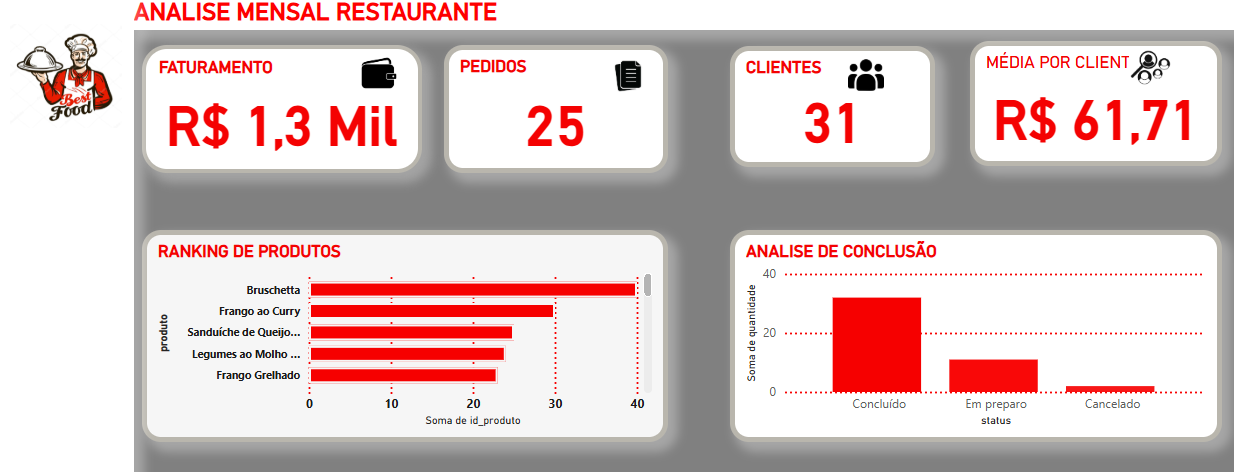

Layout of this report page (visuals, bound fields, positions):
{"tool":"powerbi","page":{"name":"Página 1","canvas":[9999,8003],"ordinal":0},"visuals":[{"type":"card","title":"FATURAMENTO","fields":{"Values":["Sum(relatorio_dashboard_restaurante - relatorio_dashboard_restaurante (2).FATURAMENTO TOTAL)"]},"box":[144,47,280,128],"z":0},{"type":"card","title":"MÉDIA POR CLIENTE","fields":{"Values":["Sum(relatorio_dashboard_restaurante - relatorio_dashboard_restaurante (2).TICKET MÉDIO)"]},"box":[972,43,252,125],"z":1000},{"type":"clusteredBarChart","title":"RANKING DE PRODUTOS","fields":{"Category":["relatorio_dashboard_restaurante - relatorio_dashboard_restaurante (2).produto"],"Y":["Sum(relatorio_dashboard_restaurante - relatorio_dashboard_restaurante (2).id_produto)"]},"box":[144,232,526,212],"z":2000},{"type":"card","title":"PEDIDOS","fields":{"Values":["Count(relatorio_dashboard_restaurante - relatorio_dashboard_restaurante (2).total_pedido)"]},"box":[446,47,224,128],"z":3000},{"type":"card","title":"CLIENTES","fields":{"Values":["Count(relatorio_dashboard_restaurante - relatorio_dashboard_restaurante (2).id_cliente)"]},"box":[732,48,205,121],"z":4000},{"type":"clusteredColumnChart","title":"ANALISE DE CONCLUSÃO","fields":{"Category":["relatorio_dashboard_restaurante - relatorio_dashboard_restaurante (2).status"],"Y":["Sum(relatorio_dashboard_restaurante - relatorio_dashboard_restaurante (2).quantidade)"]},"box":[732,232,492,212],"z":5000},{"type":"bookmarkNavigator","title":"ANALISE MENSAL RESTAURANTE ","box":[136,0,1105,32],"z":6000},{"type":"image","box":[547,48,166,60],"z":7000},{"type":"image","box":[804,54,127,46],"z":8000},{"type":"image","box":[1080,43,144,53],"z":9000},{"type":"image","box":[308,47,146,56],"z":10000},{"type":"shape","box":[0,0,136,490],"z":10001},{"type":"image","box":[7,3,122,150],"z":10002}]}

Visuals, with their boxes on the page's 9999x8003 design canvas (x1, y1, x2, y2). These are canvas units, not pixel positions in the 1234x472 screenshot, which may show the page scaled, cropped or inside an application window:
"FATURAMENTO" card: (144,47,424,175)
"MÉDIA POR CLIENTE" card: (972,43,1224,168)
"RANKING DE PRODUTOS" clusteredBarChart: (144,232,670,444)
"PEDIDOS" card: (446,47,670,175)
"CLIENTES" card: (732,48,937,169)
"ANALISE DE CONCLUSÃO" clusteredColumnChart: (732,232,1224,444)
"ANALISE MENSAL RESTAURANTE " bookmarkNavigator: (136,0,1241,32)
image: (547,48,713,108)
image: (804,54,931,100)
image: (1080,43,1224,96)
image: (308,47,454,103)
shape: (0,0,136,490)
image: (7,3,129,153)
